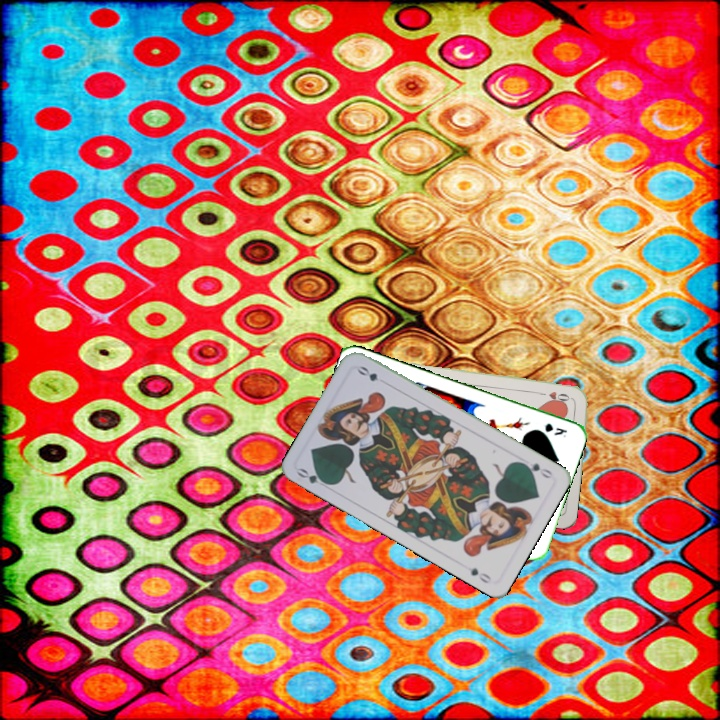GK: (541, 419, 569, 438)
GO: (293, 464, 333, 491), (517, 458, 555, 481)
HO: (534, 387, 574, 403)
